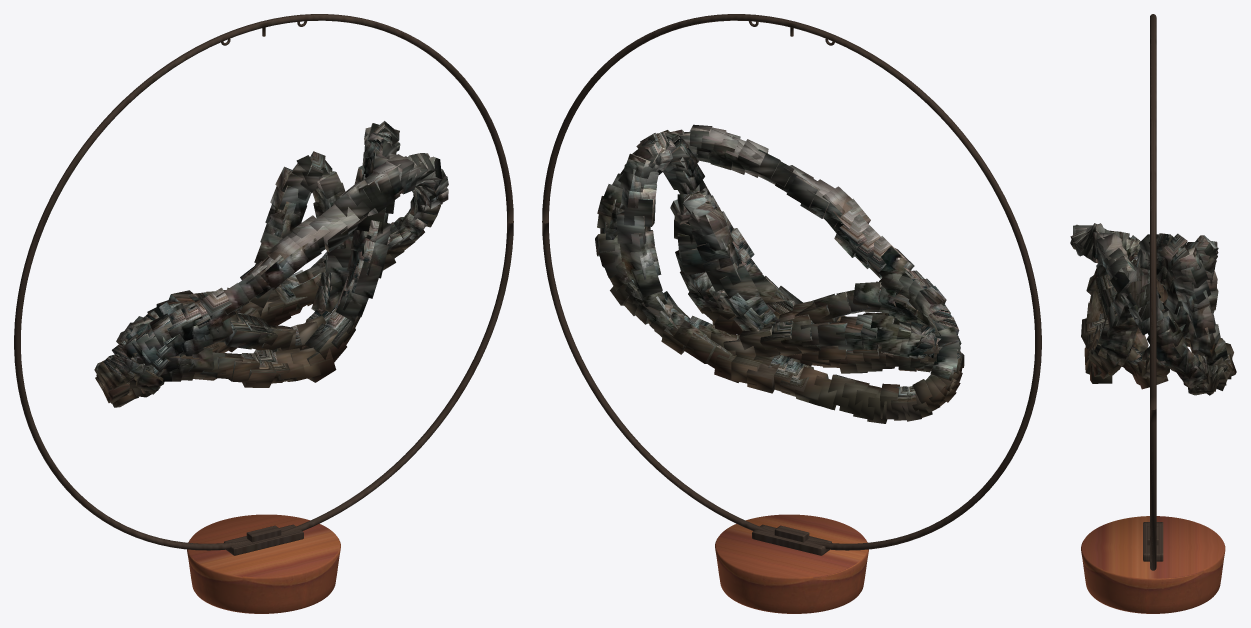
The model's file is hy3d-esc-054.glb.
3 renders of one model, left to right at view 1: azimuth 30°, elevation 25°; view 2: azimuth 150°, elevation 25°; view 3: azimuth 270°, elevation 25°, orthographic. The views are drawn at different scales.
Visible parts, largest first — view 1: world; view 2: world; view 3: world.
Boxes of the visible parts, x1,y1,x2,y2 form: world: (14, 14, 513, 613); world: (542, 14, 1041, 613); world: (1070, 14, 1236, 613).
Size of the model in its own units: 0.4939 by 0.5332 by 0.1478.
1 material, 1 textured.
